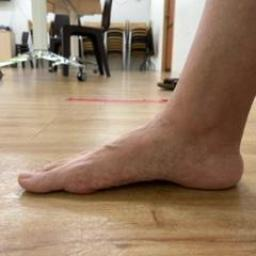Medial View -Right Foot-: (7, 80, 255, 208)
